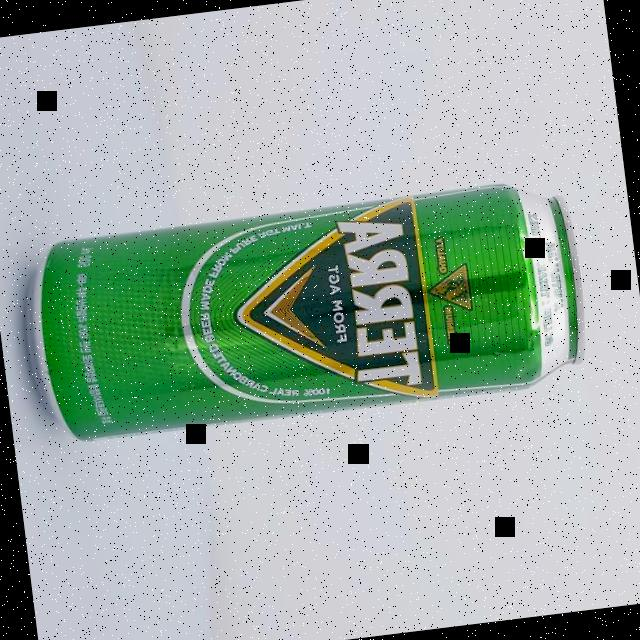can: (12, 174, 594, 450)
